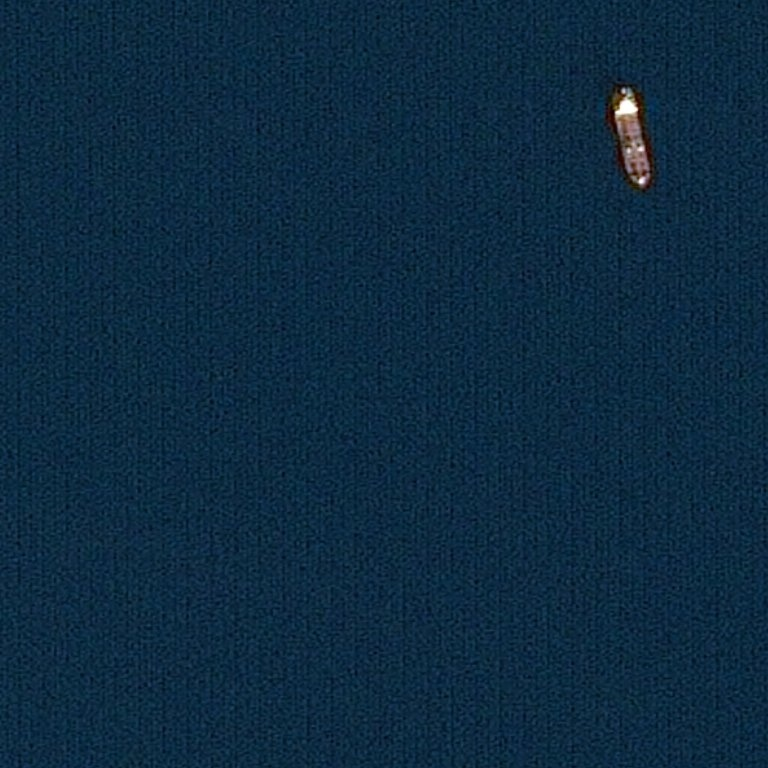ship: (611, 87, 650, 186)
